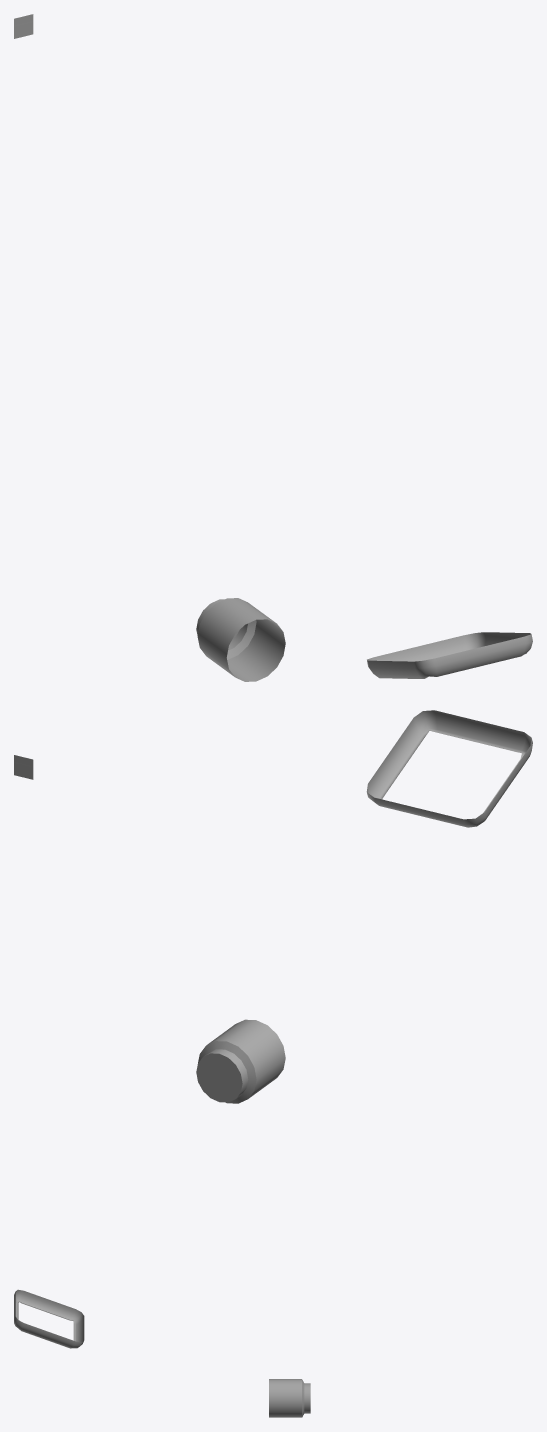
Rendered from MeshCoffeeMachine_4_0_GeomSubset_2.obj.
3 views of the same model, one above another, from view 1: azimuth 30°, elevation 25°; view 2: azimuth 150°, elevation 25°; view 3: azimuth 270°, elevation 25° (orthographic). The views are drawn at different scales.
Parts seen in each view (by area): view 1: MeshCoffeeMachine_4_0_GeomSubset_2; view 2: MeshCoffeeMachine_4_0_GeomSubset_2; view 3: MeshCoffeeMachine_4_0_GeomSubset_2.
Part boxes in pixels (x1,y1,x2,y2): MeshCoffeeMachine_4_0_GeomSubset_2: (14,14,532,681); MeshCoffeeMachine_4_0_GeomSubset_2: (14,710,532,1103); MeshCoffeeMachine_4_0_GeomSubset_2: (14,1289,310,1417).
Size of the model in its own units: 0.0601 by 0.2435 by 0.4077.
